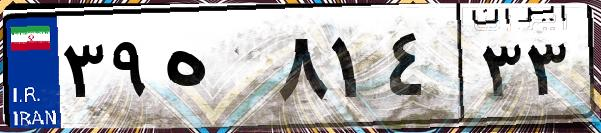1: (330, 28, 385, 110)
3: (57, 26, 110, 100), (475, 38, 525, 113), (525, 38, 570, 115)
4: (385, 28, 445, 110)
8: (270, 28, 330, 110)
9: (110, 28, 158, 98)
ه: (158, 20, 270, 120)
